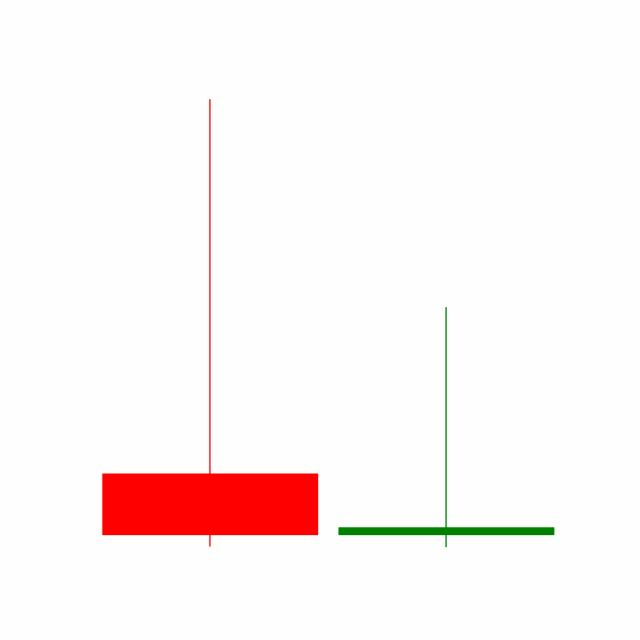Gravestone Doji: (327, 303, 565, 550)
